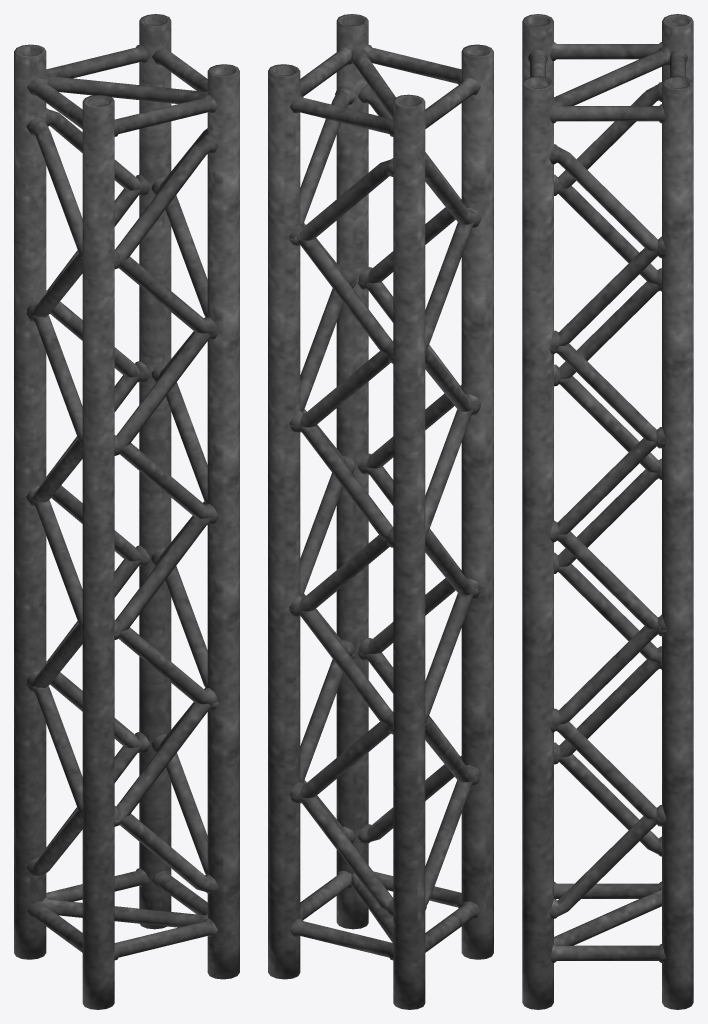
Rendered from truss.obj.
The picture shows the model from 3 angles, left to right: view 1: azimuth 30°, elevation 25°; view 2: azimuth 150°, elevation 25°; view 3: azimuth 270°, elevation 25°; orthographic projection.
Parts seen in each view (by area): view 1: Truss; view 2: Truss; view 3: Truss.
Boxes of the visible parts, x1,y1,x2,y2 form: Truss: (14, 14, 239, 1009); Truss: (268, 14, 493, 1009); Truss: (522, 14, 693, 1009).
Size of the model in its own units: 3.04 by 17.08 by 2.88.
